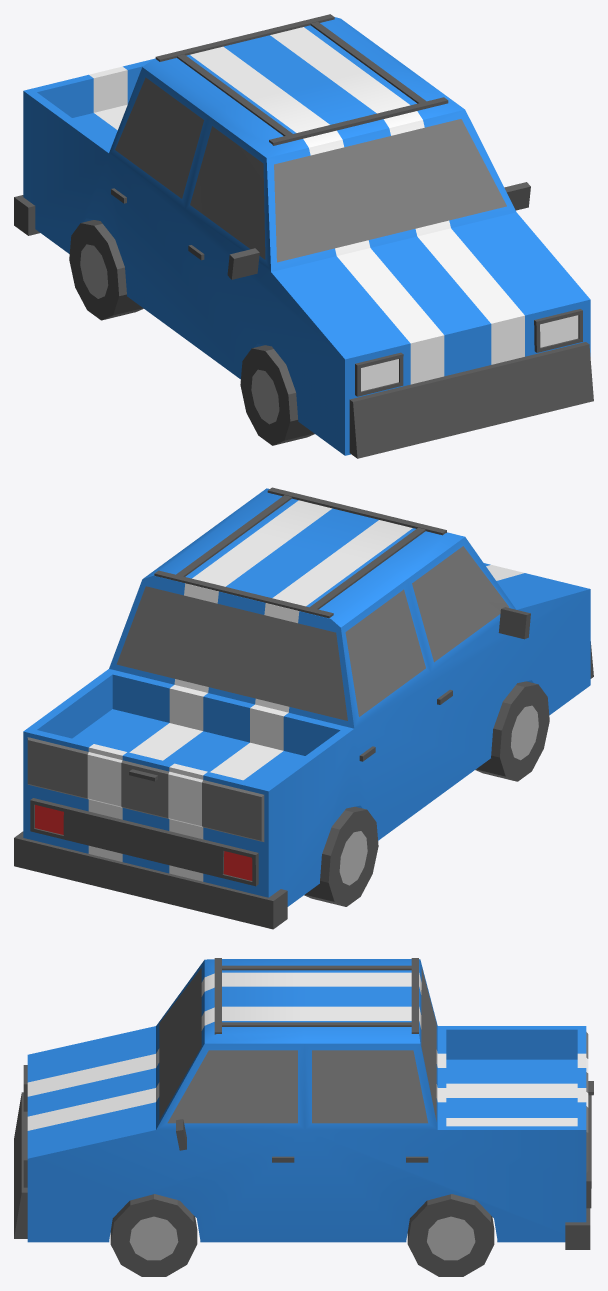
File: SM_Car_10_05.FBX
The picture shows the model from 3 angles, top to bottom: view 1: azimuth 30°, elevation 25°; view 2: azimuth 150°, elevation 25°; view 3: azimuth 270°, elevation 25°; orthographic projection. The views are drawn at different scales.
Visible parts, largest first — view 1: SM_Car_10_05, SM_Wheel_LFront002, SM_Wheel_RBack001; view 2: SM_Car_10_05, SM_Wheel_LFront002, SM_Wheel_RBack001; view 3: SM_Car_10_05, SM_Wheel_LFront001, SM_Wheel_LBack001.
Part boxes in pixels (<box>): SM_Car_10_05: <box>14,14,593,458</box>; SM_Wheel_LFront002: <box>240,345,314,445</box>; SM_Wheel_RBack001: <box>69,220,143,320</box>; SM_Car_10_05: <box>14,487,593,929</box>; SM_Wheel_LFront002: <box>475,681,549,781</box>; SM_Wheel_RBack001: <box>304,806,378,906</box>; SM_Car_10_05: <box>14,958,593,1249</box>; SM_Wheel_LFront001: <box>110,1194,197,1276</box>; SM_Wheel_LBack001: <box>407,1194,494,1276</box>.
Bounding box in the file's own units: 1.7 × 1.43 × 3.31.
1 material, 1 textured.
